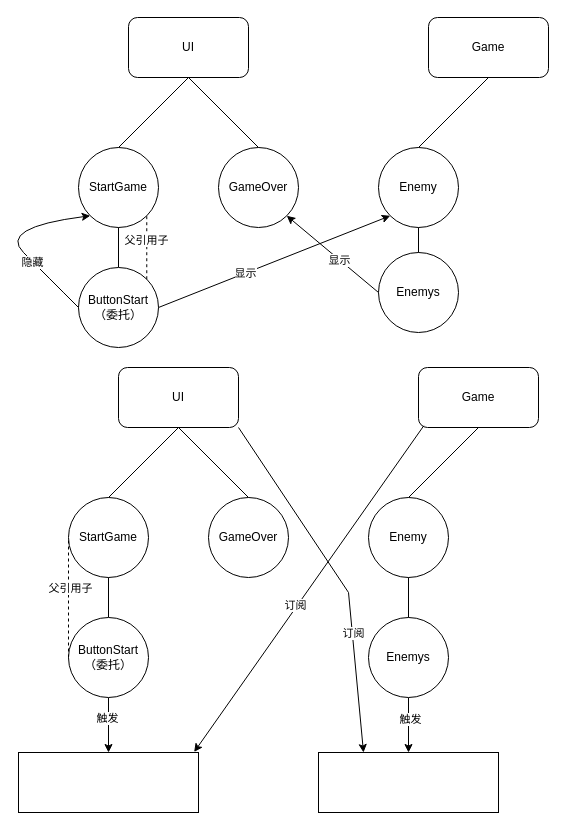
Some shapes in this 566 by 830 pixel diagram are drawn without their labels. Each missing label, with the box of its shape:
GameOverEvent.Trigger(): (318, 752, 498, 812)
GameStartEvent.Trigger(): (18, 752, 198, 812)
